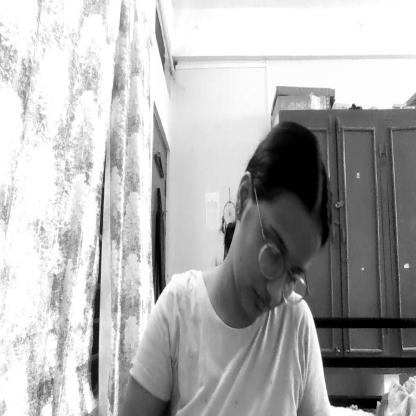Distracted: (228, 121, 340, 326)
